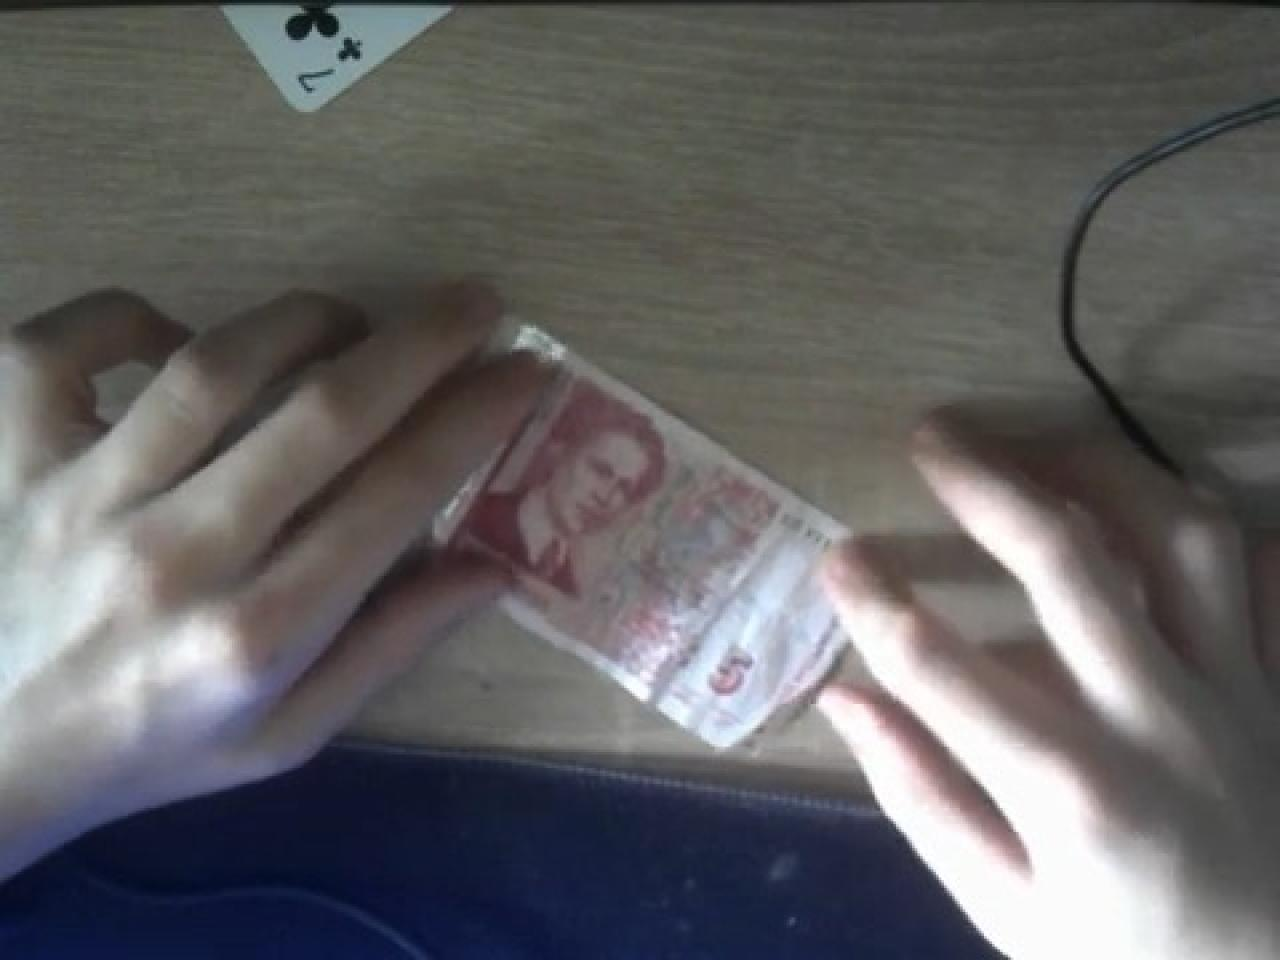5leva: (421, 309, 851, 749)
